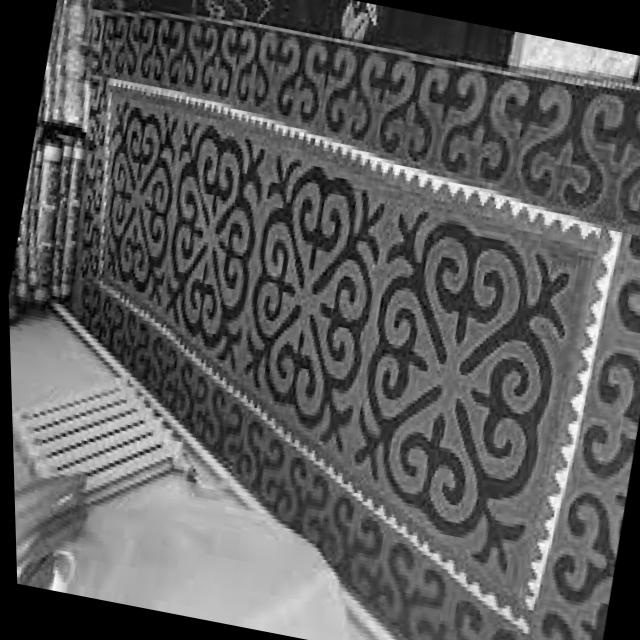Unity: (348, 199, 581, 591), (238, 152, 391, 464), (162, 115, 270, 380), (104, 97, 185, 310)
